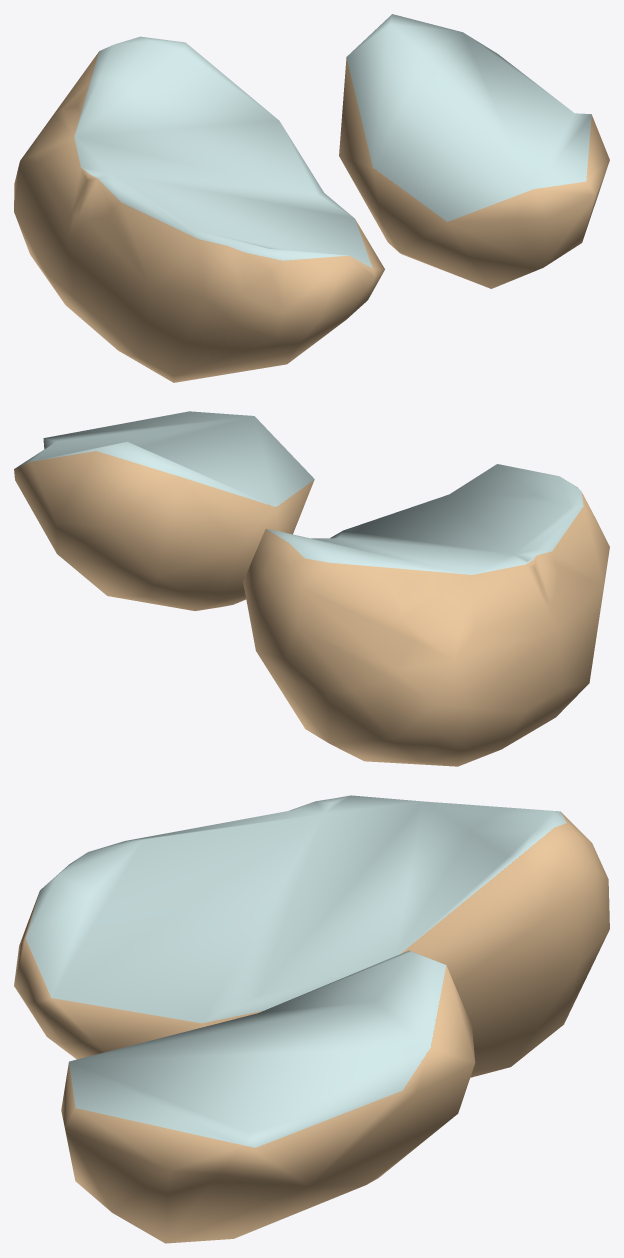
The model's file is Sesamoid_bones_foot_right.glb.
3 views of the same model, one above another, from view 1: azimuth 30°, elevation 25°; view 2: azimuth 150°, elevation 25°; view 3: azimuth 270°, elevation 25° (orthographic). The views are drawn at different scales.
Parts seen in each view (by area): view 1: Sesamoid_bones_of_foot.r_Generated_Mesh_From_X3D.257; view 2: Sesamoid_bones_of_foot.r_Generated_Mesh_From_X3D.257; view 3: Sesamoid_bones_of_foot.r_Generated_Mesh_From_X3D.257.
Part boxes in pixels (box(x1,y1,x2,y2)): Sesamoid_bones_of_foot.r_Generated_Mesh_From_X3D.257: box(14, 14, 609, 382); Sesamoid_bones_of_foot.r_Generated_Mesh_From_X3D.257: box(14, 411, 609, 766); Sesamoid_bones_of_foot.r_Generated_Mesh_From_X3D.257: box(14, 795, 609, 1243).
Size of the model in its own units: 0.0174 by 0.00802 by 0.0136.
